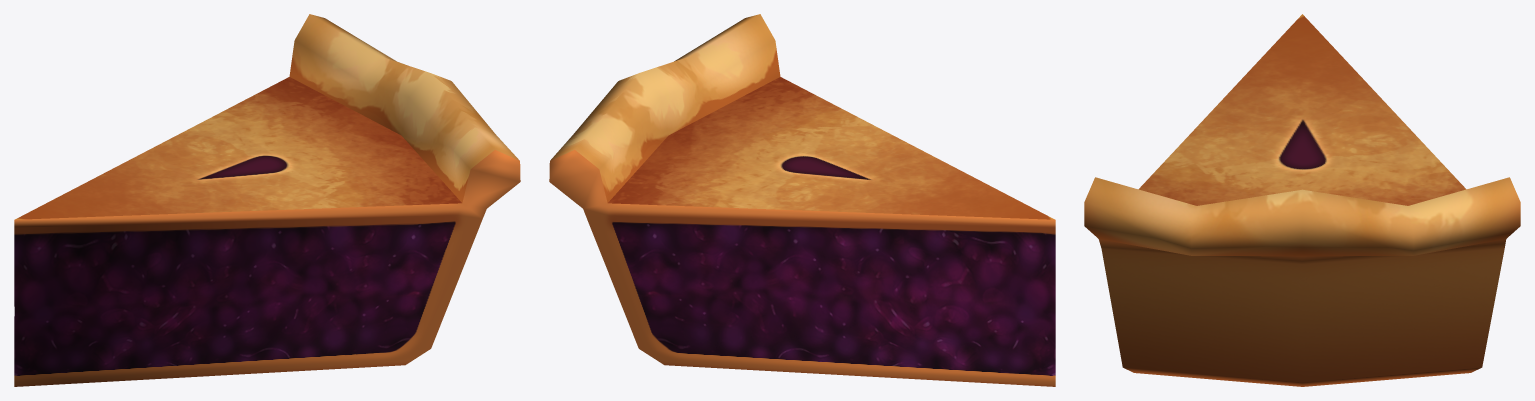
The model's file is Pie_Blueberry.fbx.
3 renders of one model, left to right at view 1: azimuth 30°, elevation 25°; view 2: azimuth 150°, elevation 25°; view 3: azimuth 270°, elevation 25°, orthographic. The views are drawn at different scales.
Parts seen in each view (by area): view 1: Pie_Blueberry; view 2: Pie_Blueberry; view 3: Pie_Blueberry.
Boxes of the visible parts, <box> form: Pie_Blueberry: <box>14,14,520,386</box>; Pie_Blueberry: <box>549,14,1055,386</box>; Pie_Blueberry: <box>1084,14,1520,386</box>.
Bounding box in the file's own units: 47.82 × 22.22 × 36.97.
